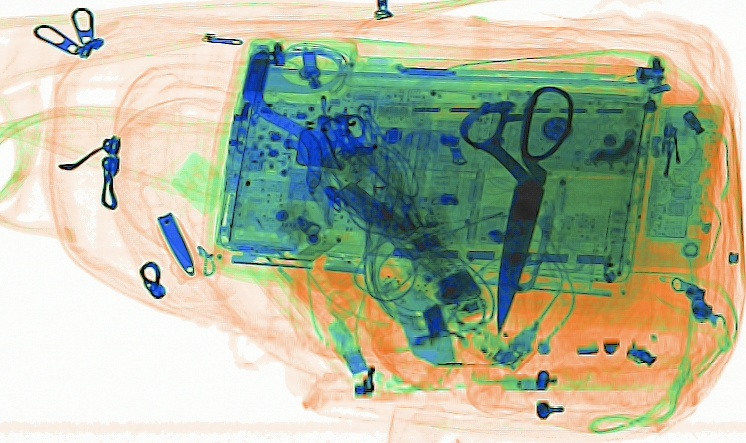scissors: (461, 85, 573, 338)
